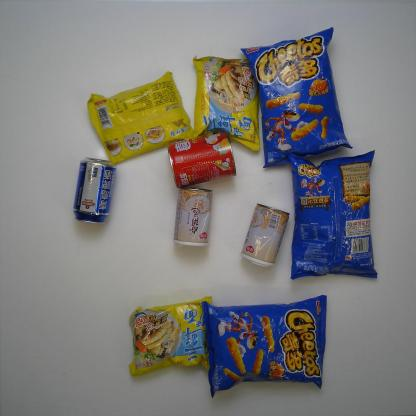Alcohol: (72, 157, 116, 224)
Canned Food: (167, 131, 236, 188), (240, 203, 290, 267), (172, 185, 213, 247)
Instant Noodles: (87, 70, 194, 166), (128, 295, 212, 377), (192, 55, 260, 152)
Puffed Food: (241, 27, 353, 168), (201, 294, 327, 400), (287, 150, 378, 281)
